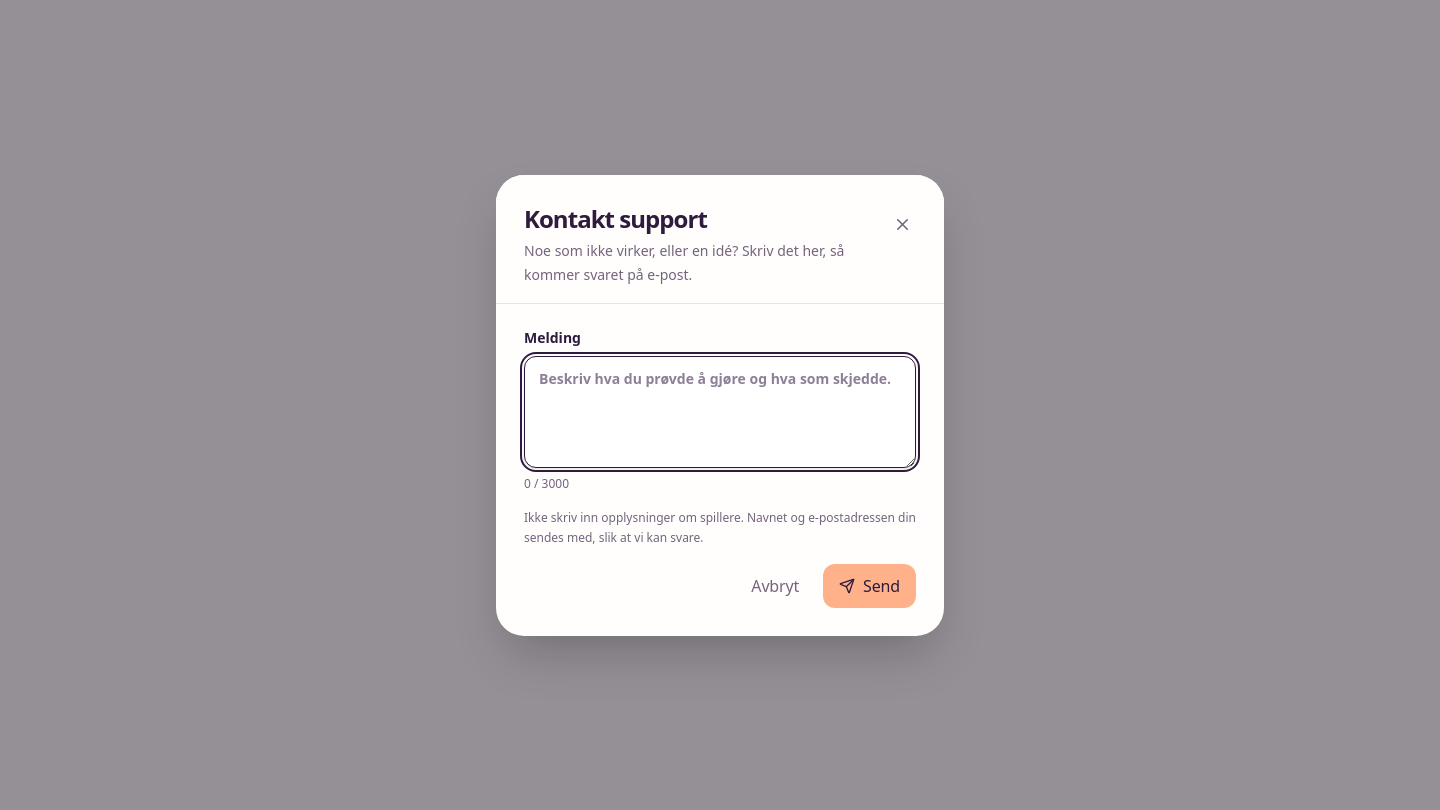
support dialog › keeps the text and shows the error when sending fails
In the text box: {"x": 720, "y": 412} [524, 356, 916, 468], type "Kalenderen er tom"
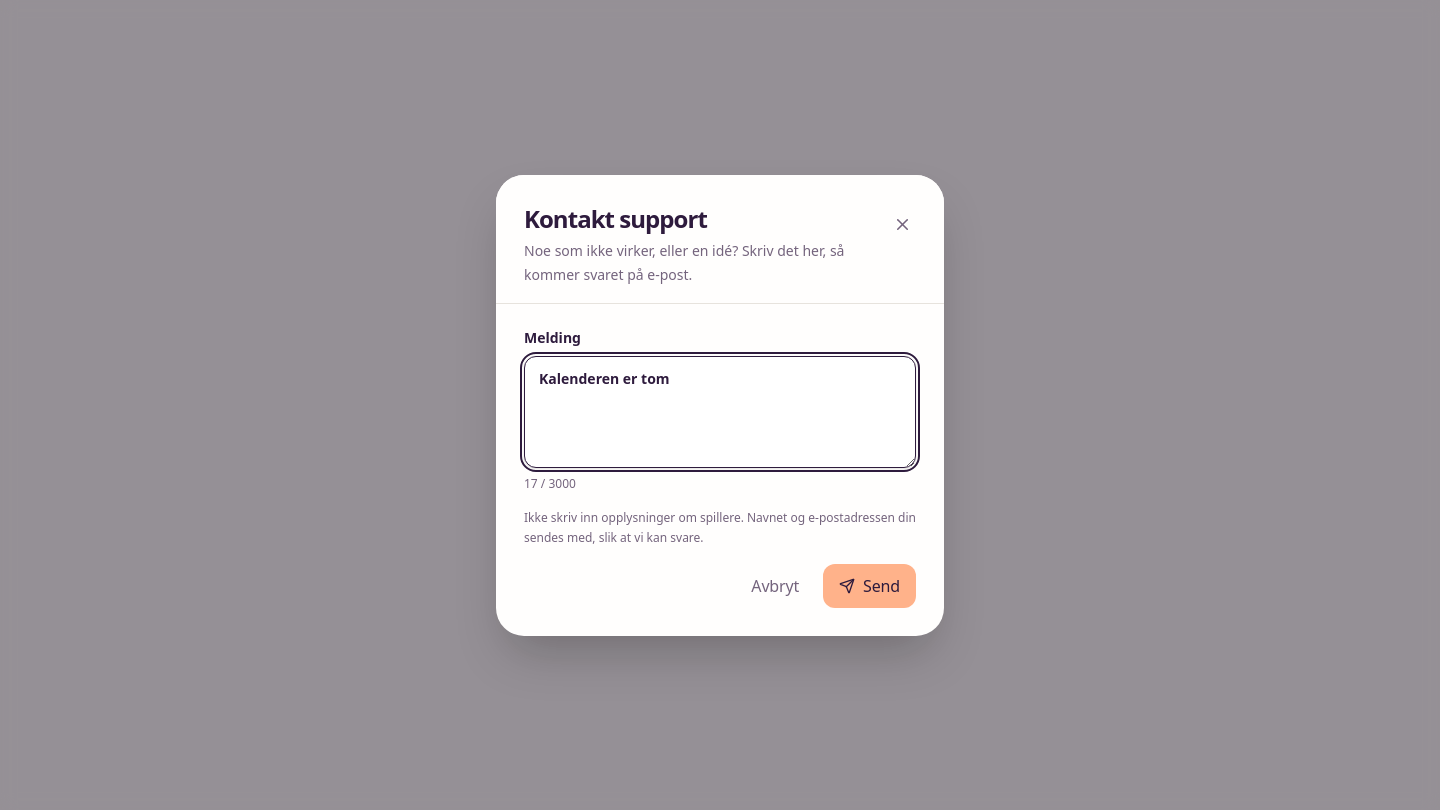
Click the button "Send": {"x": 870, "y": 586} [823, 564, 916, 608]
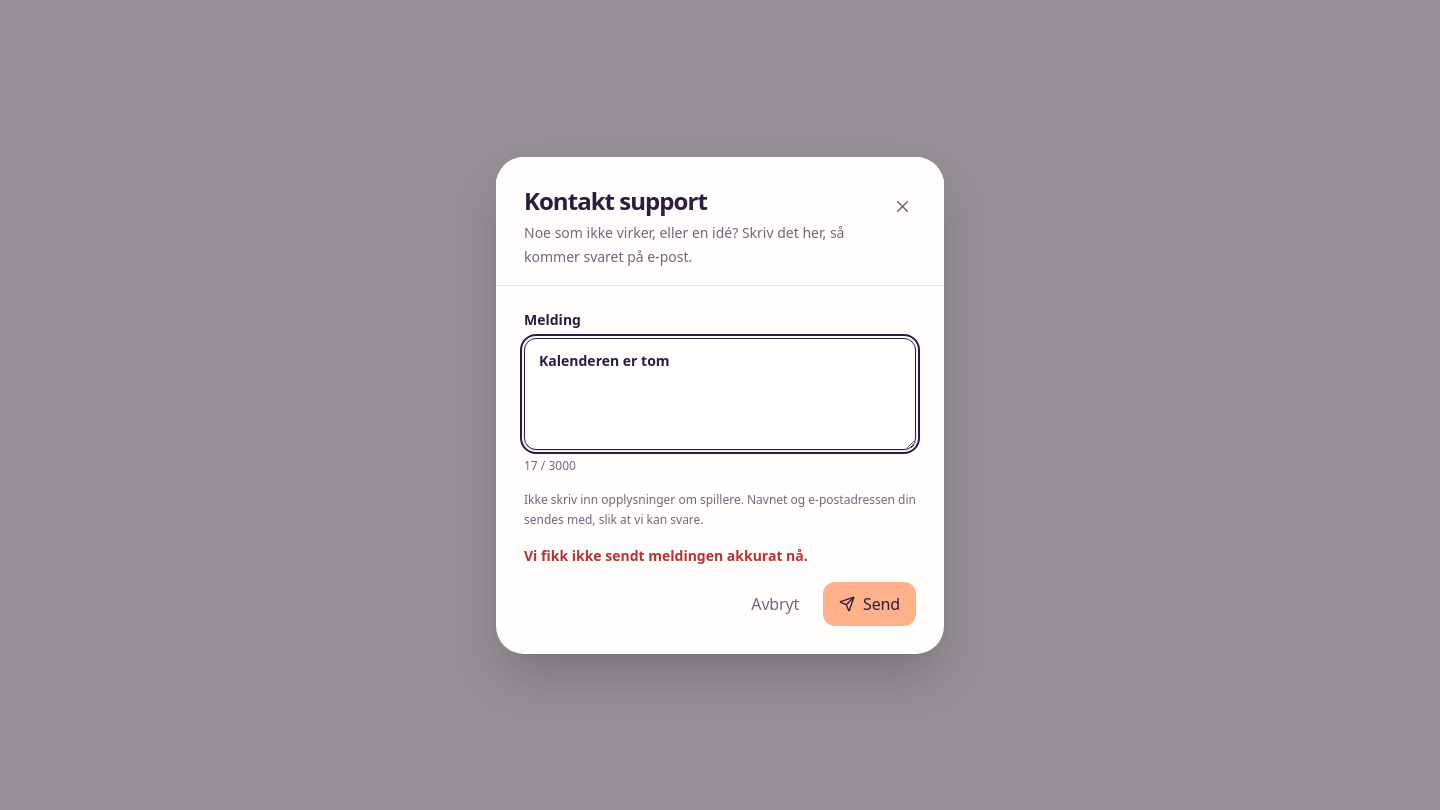
Expected: the message shows "ikke sendt", [524, 546, 808, 564]
